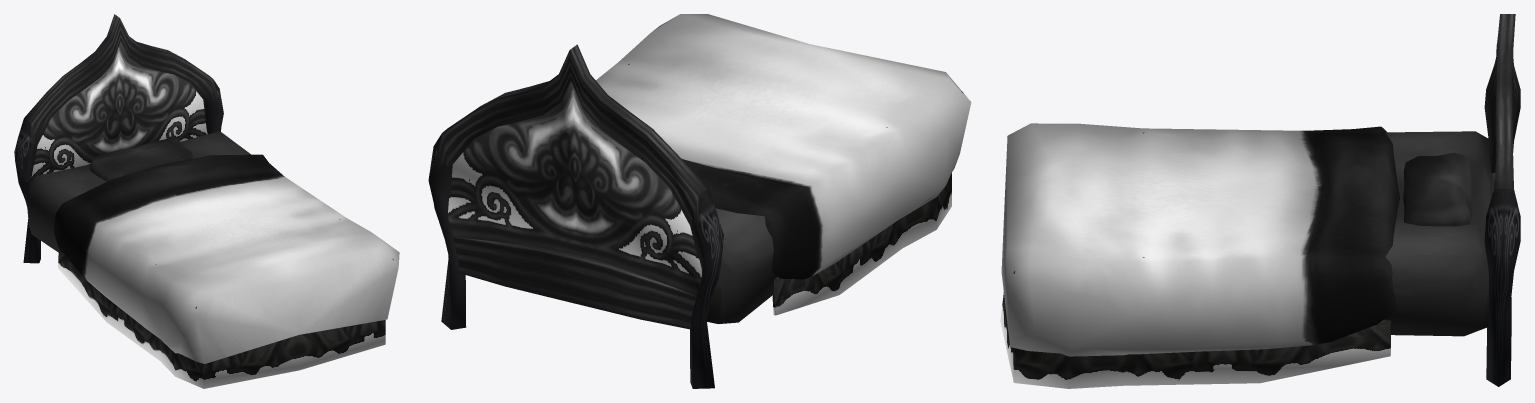
File: NienteBed_HD.fbx
3 views of the same model, side by side, from view 1: azimuth 30°, elevation 25°; view 2: azimuth 150°, elevation 25°; view 3: azimuth 270°, elevation 25° (orthographic). The views are drawn at different scales.
Visible parts, largest first — view 1: NienteBed; view 2: NienteBed; view 3: NienteBed.
Part boxes in pixels (bbox=[...]): NienteBed: bbox=[14, 14, 399, 388]; NienteBed: bbox=[428, 14, 971, 388]; NienteBed: bbox=[1000, 14, 1520, 388].
Size of the model in its own units: 1.33 by 1.27 by 1.94.
